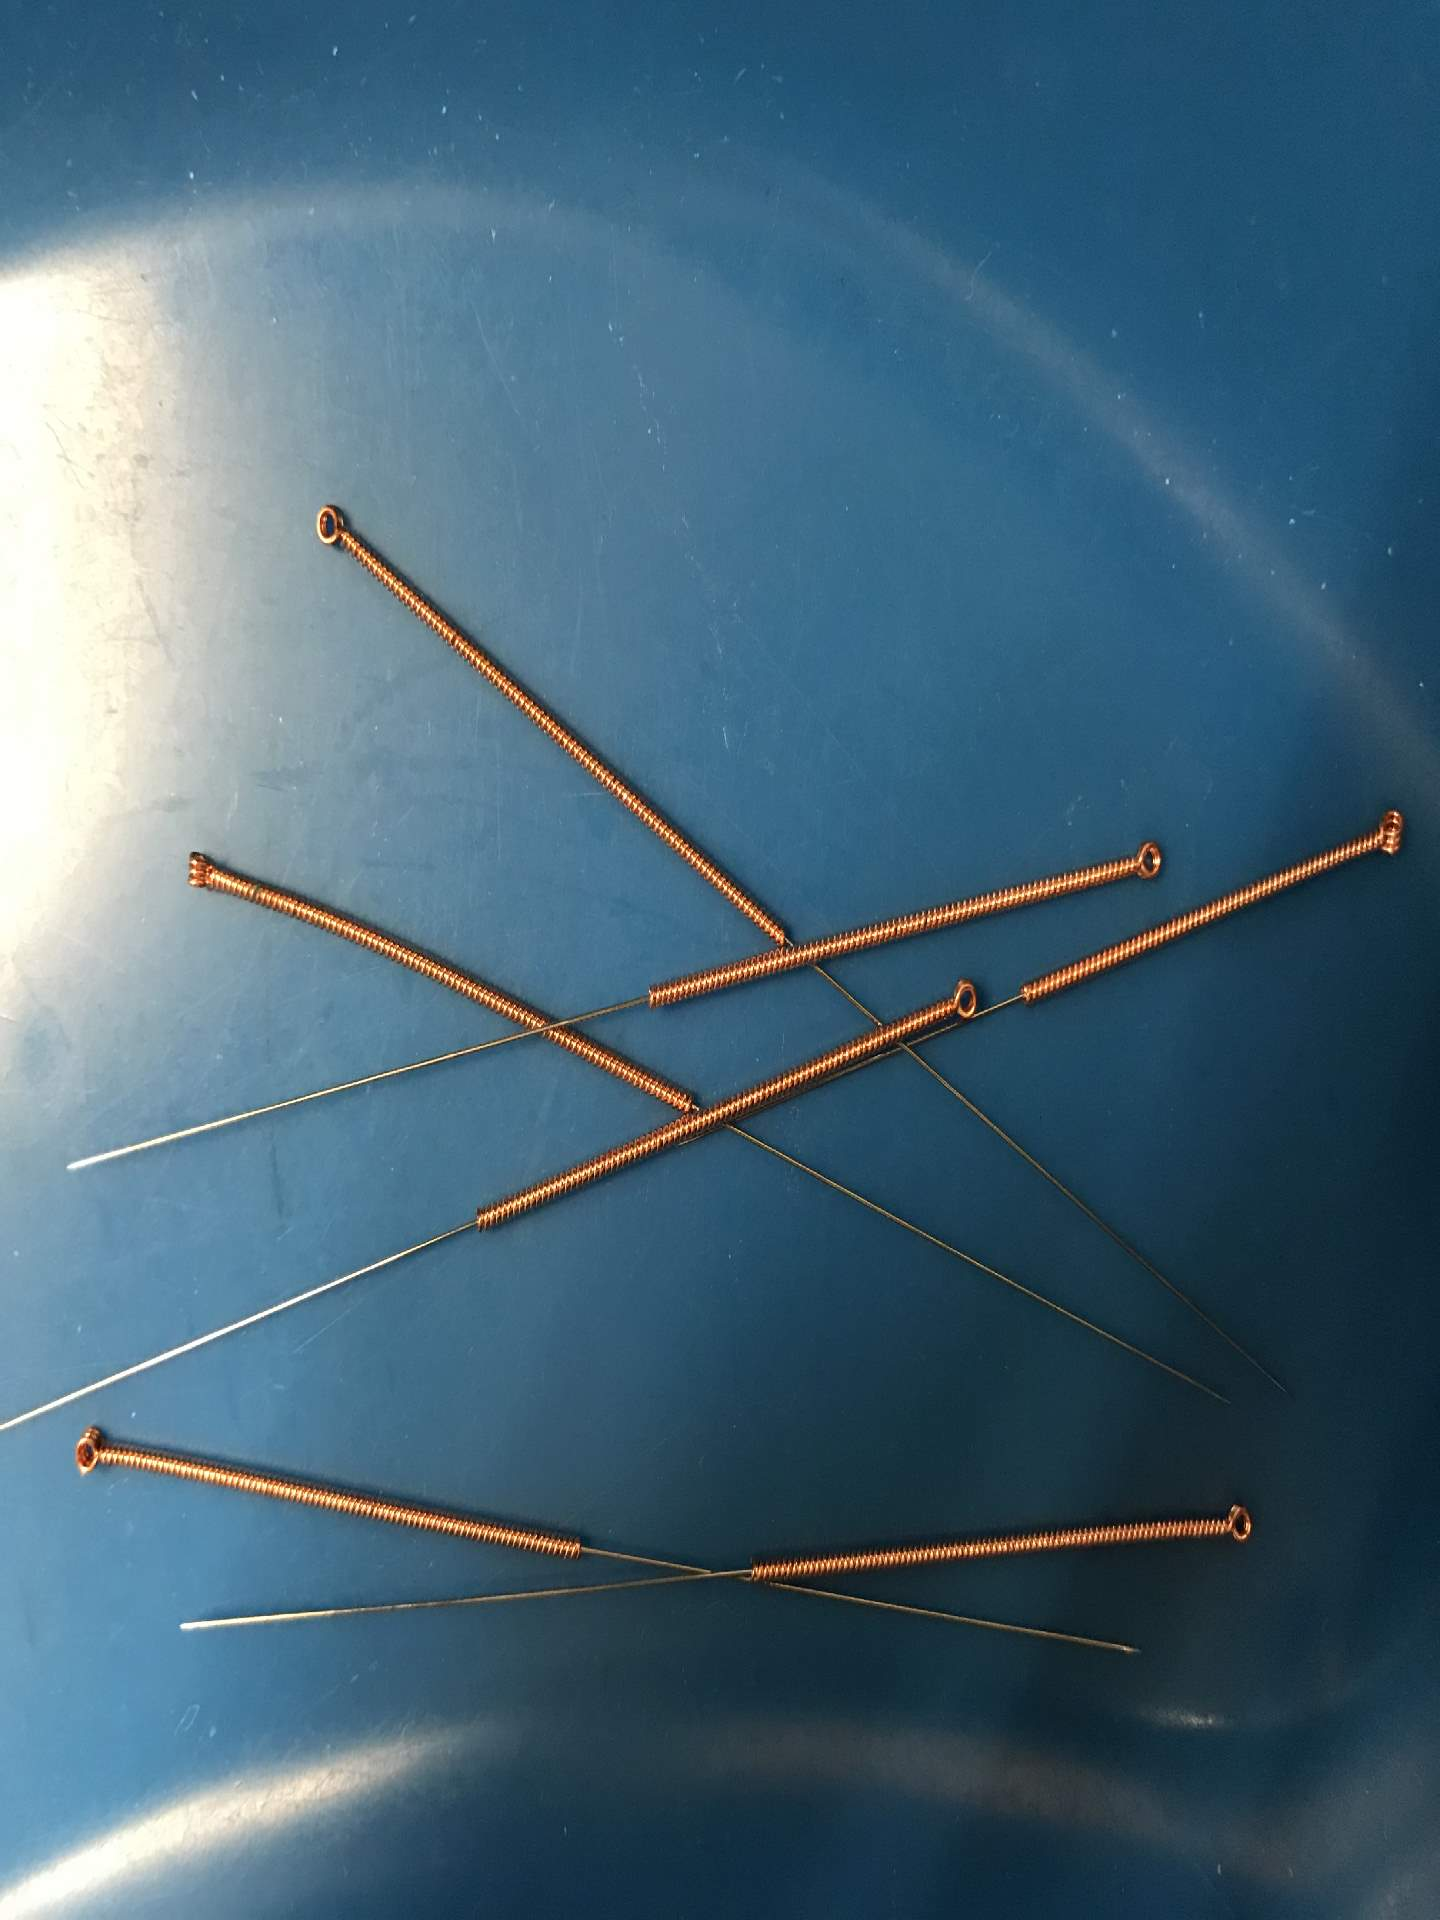needle: (299, 488, 365, 568), (59, 1418, 119, 1491), (1115, 824, 1175, 895), (932, 966, 989, 1036), (169, 836, 225, 907), (1206, 1494, 1265, 1559), (1358, 797, 1414, 865)
